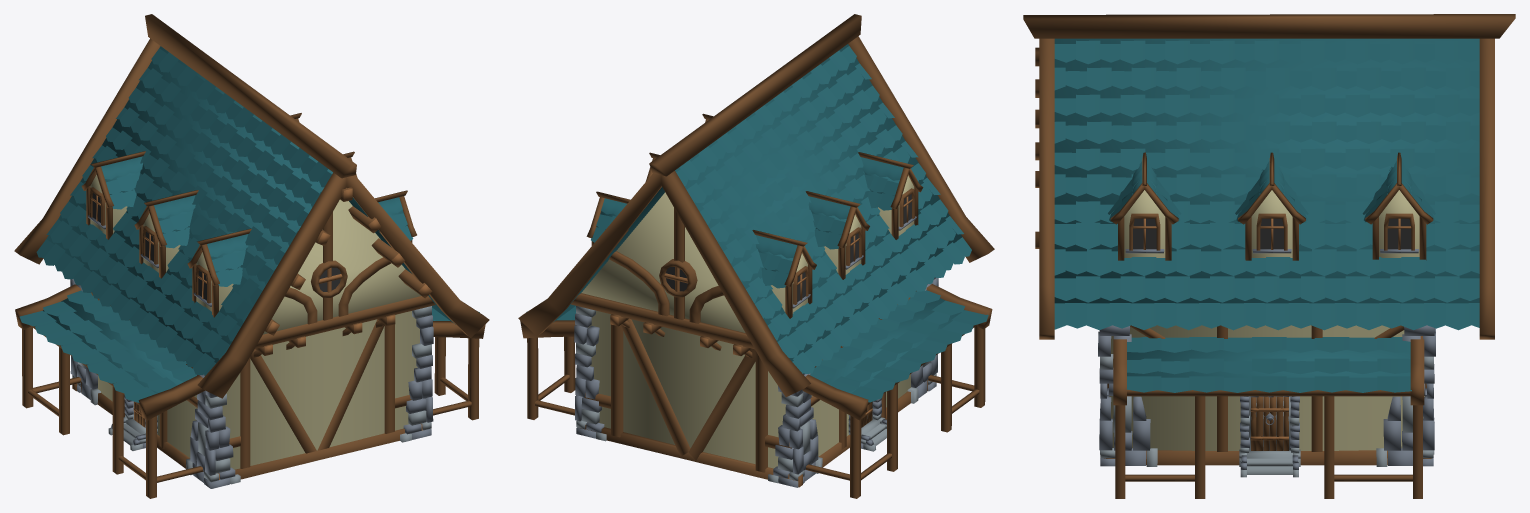
The model's file is inn.005_lev2.glb.
3 renders of one model, left to right at view 1: azimuth 30°, elevation 25°; view 2: azimuth 150°, elevation 25°; view 3: azimuth 270°, elevation 25°, orthographic. The views are drawn at different scales.
Visible parts, largest first — view 1: inn.005_lev2; view 2: inn.005_lev2; view 3: inn.005_lev2.
Part boxes in pixels (x1,y1,x2,y2): inn.005_lev2: (14,14,489,498); inn.005_lev2: (518,14,994,498); inn.005_lev2: (1023,14,1515,498).
Size of the model in its own units: 8.04 by 6.98 by 8.06.
